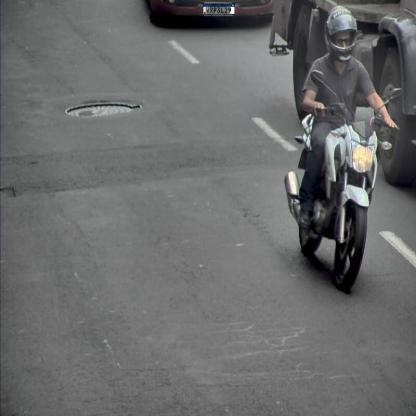PlacaM: (203, 4, 235, 14)
